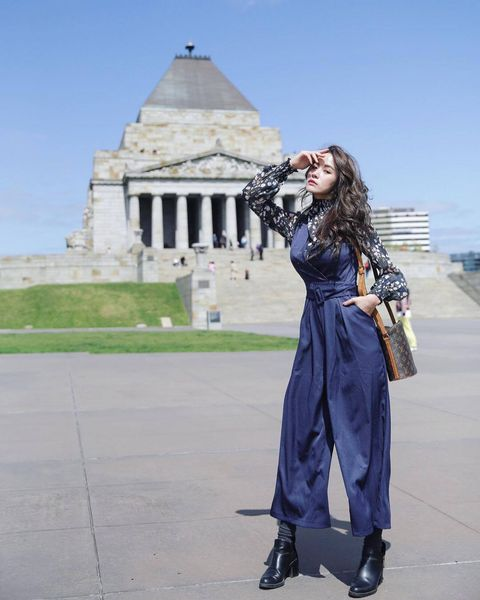people: (244, 147, 418, 592)
